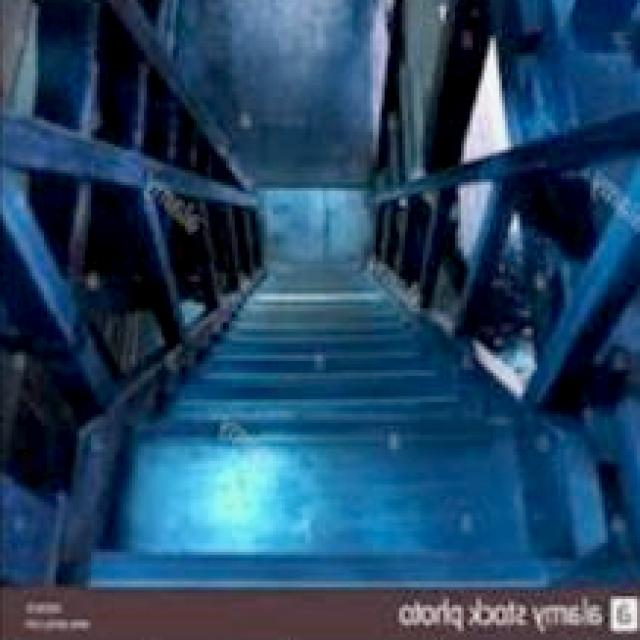downstair: (127, 321, 512, 468)
